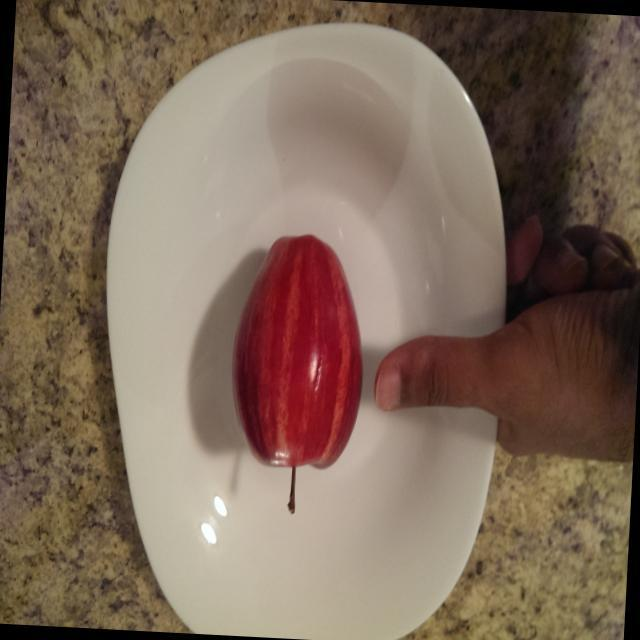Apple: (220, 219, 374, 524)
Finger: (370, 328, 464, 418)
